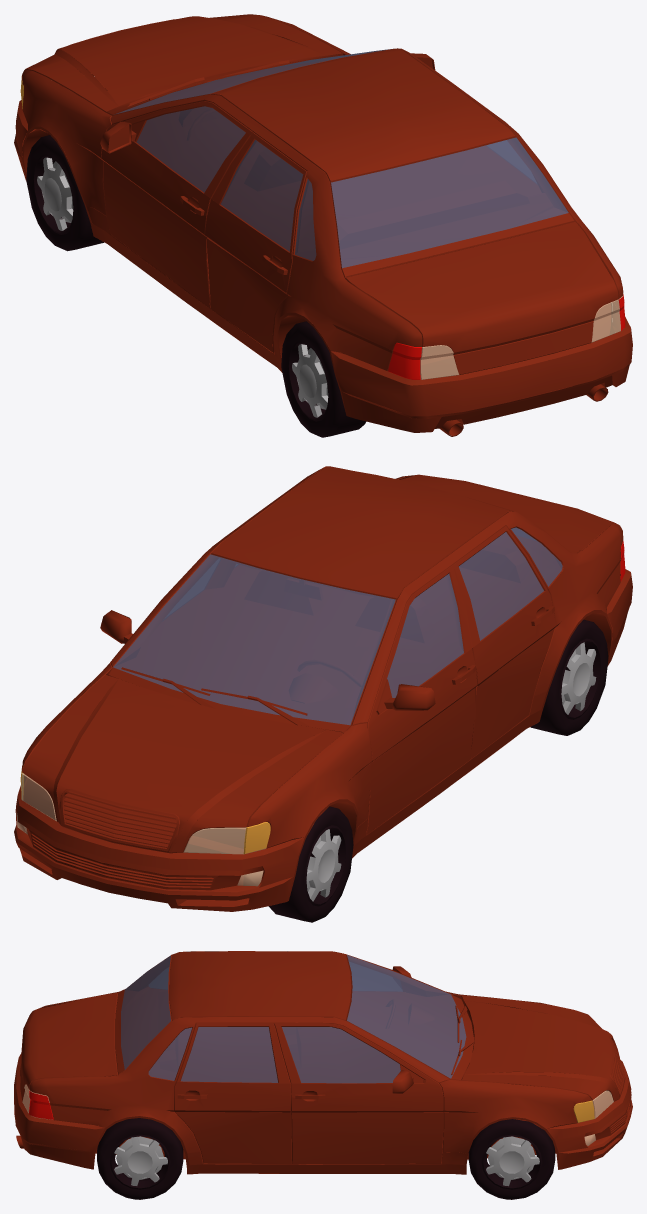
The model's file is car.fbx.
3 renders of one model, top to bottom at view 1: azimuth 30°, elevation 25°; view 2: azimuth 150°, elevation 25°; view 3: azimuth 270°, elevation 25°, orthographic. The views are drawn at different scales.
Visible parts, largest first — view 1: BODY, GLASS, wheel-RL, wheel-FL, LIGHT; view 2: BODY, GLASS, wheel-FL, wheel-RL, LIGHT; view 3: BODY, GLASS, wheel-RR, wheel-FR, LIGHT.
Part boxes in pixels (x1,y1,x2,y2): BODY: (14,14,632,436); GLASS: (114,48,568,268); wheel-RL: (281,321,366,437); wheel-FL: (26,135,103,251); LIGHT: (20,76,625,379); BODY: (14,466,632,911); GLASS: (113,527,562,725); wheel-FL: (268,806,353,922); wheel-RL: (530,619,608,735); LIGHT: (16,541,625,886); BODY: (14,951,632,1174); GLASS: (121,955,466,1083); wheel-RR: (97,1118,183,1199); wheel-FR: (468,1119,555,1199); LIGHT: (22,1084,613,1145).
Bounding box in the file's own units: 1.94 × 4.36 × 1.34.
